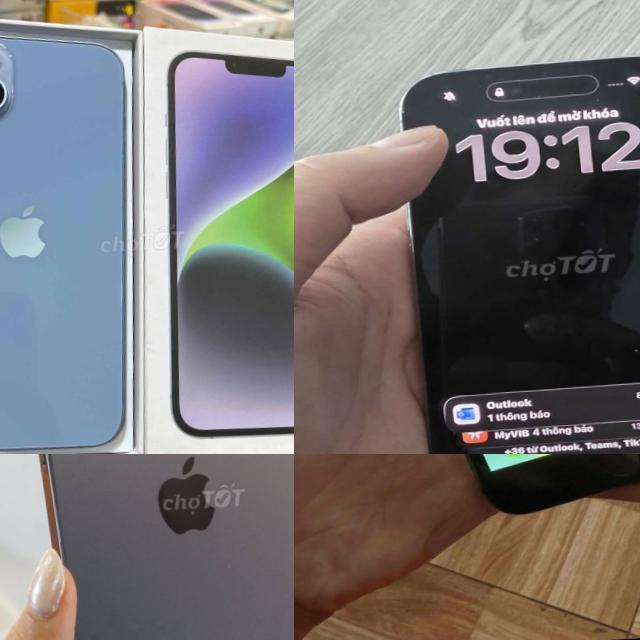gen_14: (0, 17, 144, 454), (0, 454, 294, 640)
gen_17: (395, 46, 640, 454)
gen_7_8: (306, 454, 640, 527)
